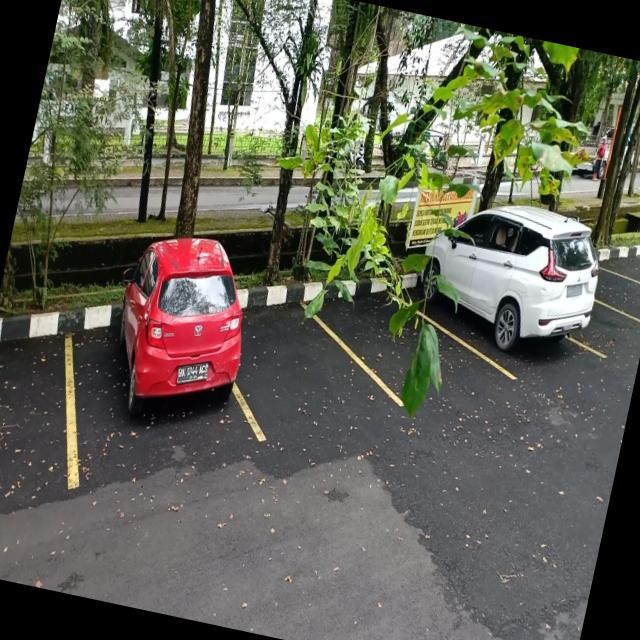empty: (232, 299, 376, 458), (321, 280, 459, 410), (593, 269, 640, 319)
occupied: (58, 290, 256, 454), (402, 248, 599, 385)
